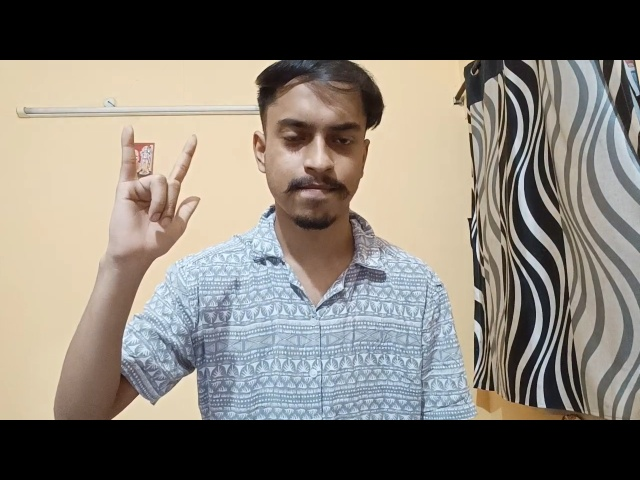ILoveyou: (96, 117, 221, 271)
